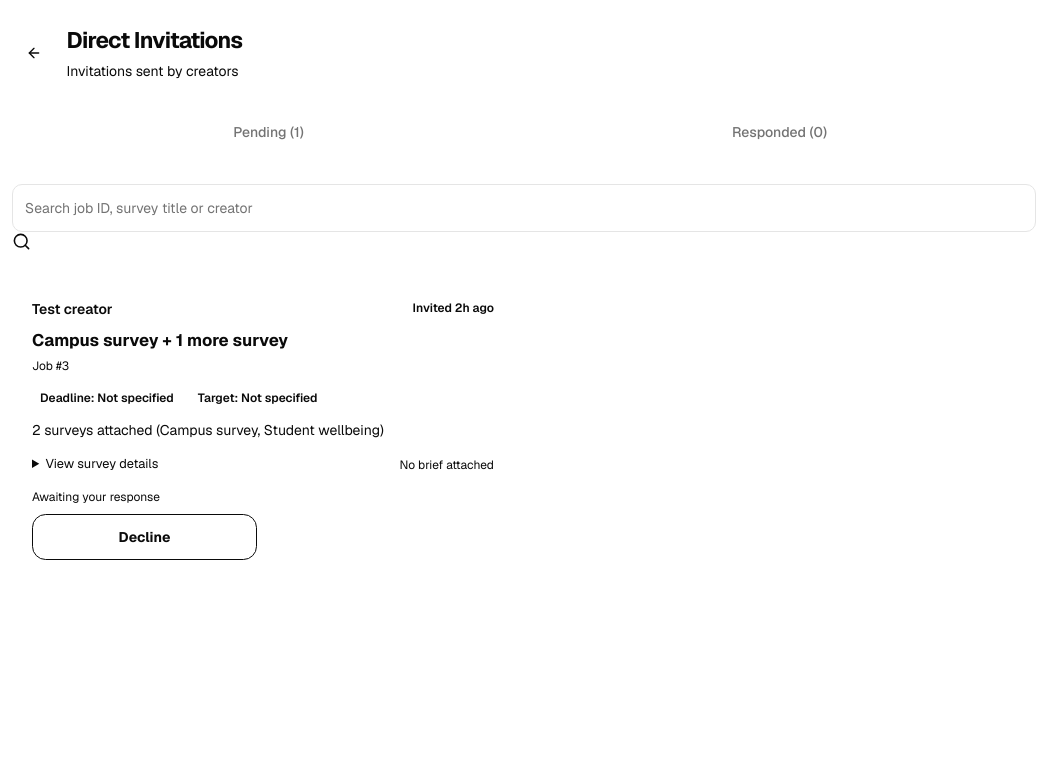
live US20 invitations › uses a survey-based heading for multi-survey jobs and retains every survey in details
The image size is (1048, 763).
Expected: the heading "Campus survey + 1 more survey" is shown, x1=32 y1=329 x2=288 y2=351
Expected: the text "Deadline: Not specified" is shown, x1=32 y1=387 x2=182 y2=411
Click the heading "View survey details" at (102, 463), box x1=46 y1=455 x2=158 y2=472
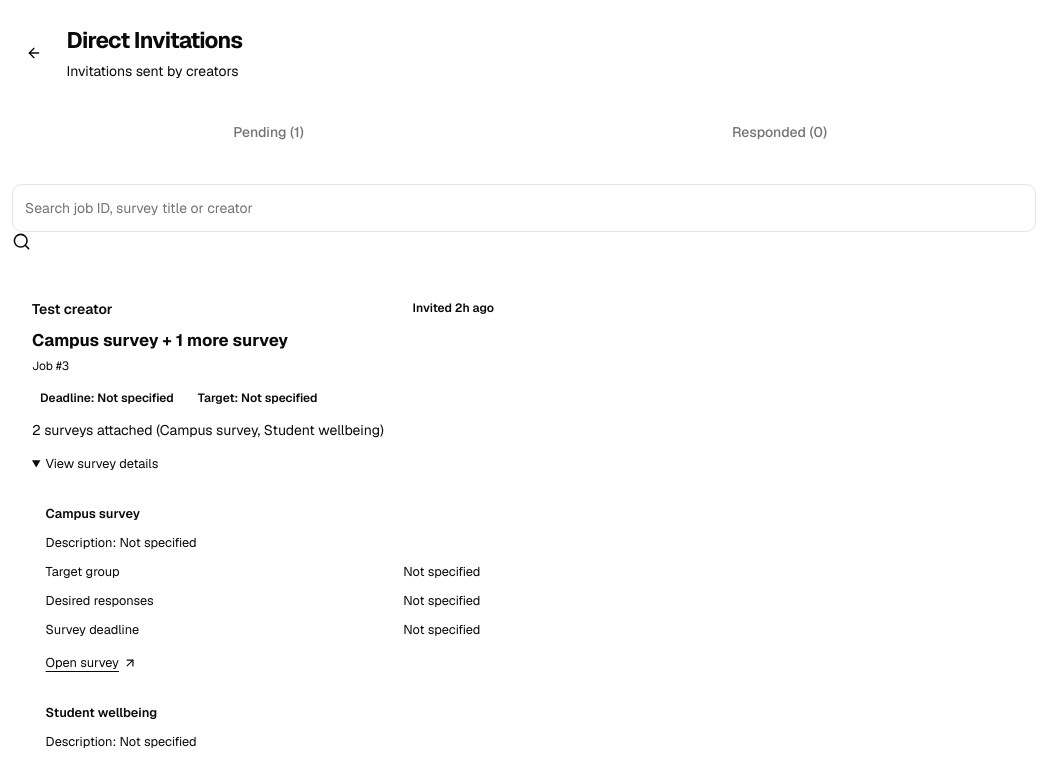
Result: the heading "Student wellbeing" is shown at x1=46 y1=704 x2=157 y2=721
Result: the number of links "Open survey" is 2
